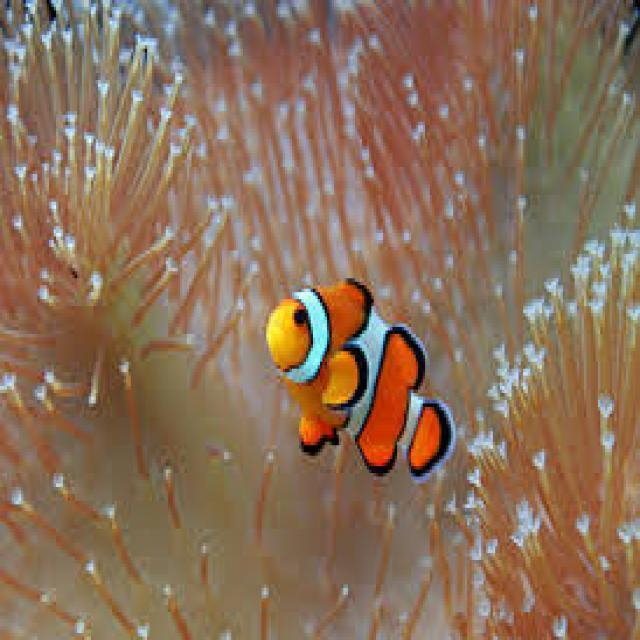ClownFish: (266, 276, 454, 488)
